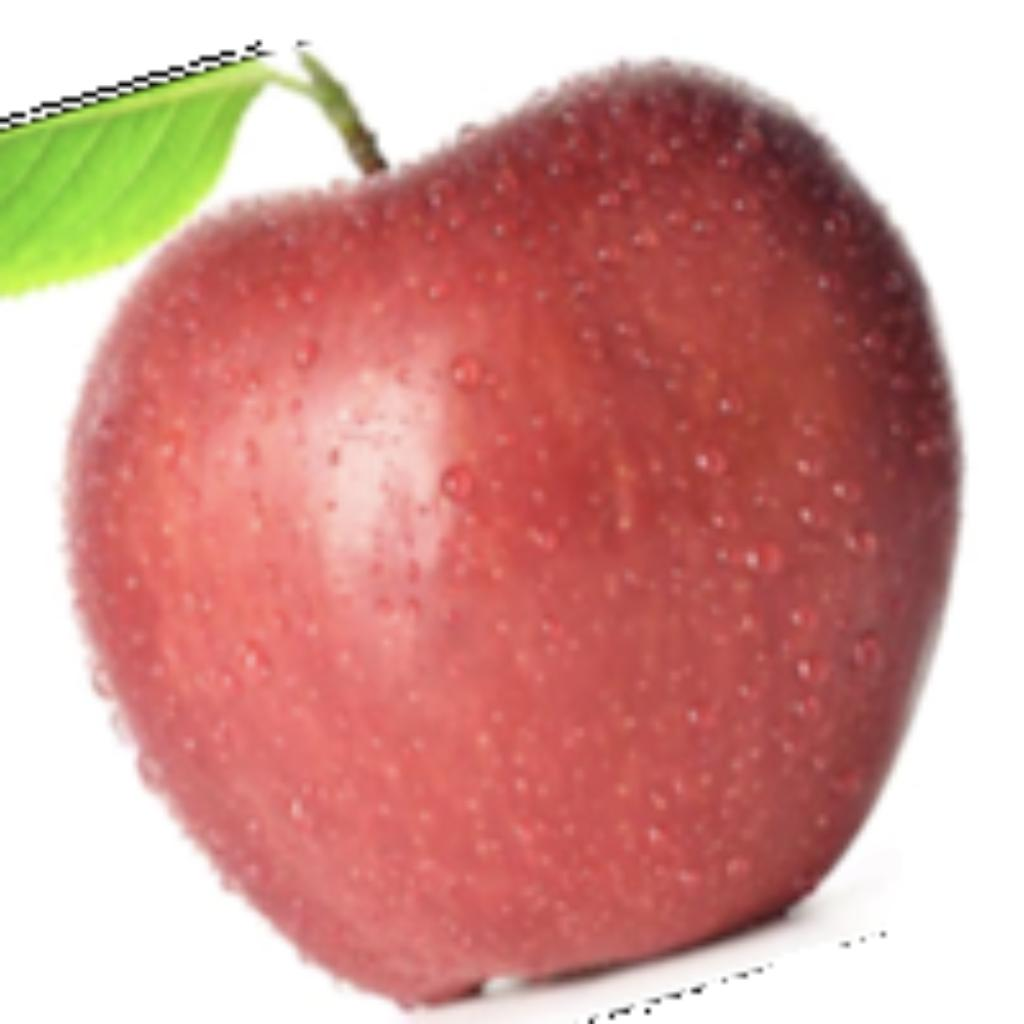apple: (0, 36, 968, 1019)
